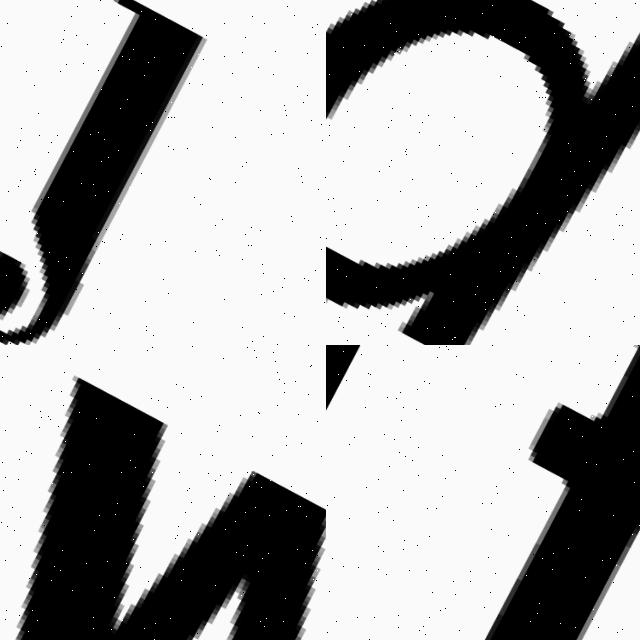D: (326, 0, 640, 345)
J: (0, 0, 301, 345)
T: (343, 345, 640, 640)
W: (0, 345, 326, 640)
